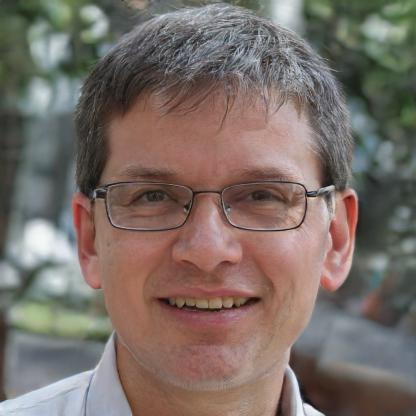glasses: (94, 176, 321, 238)
